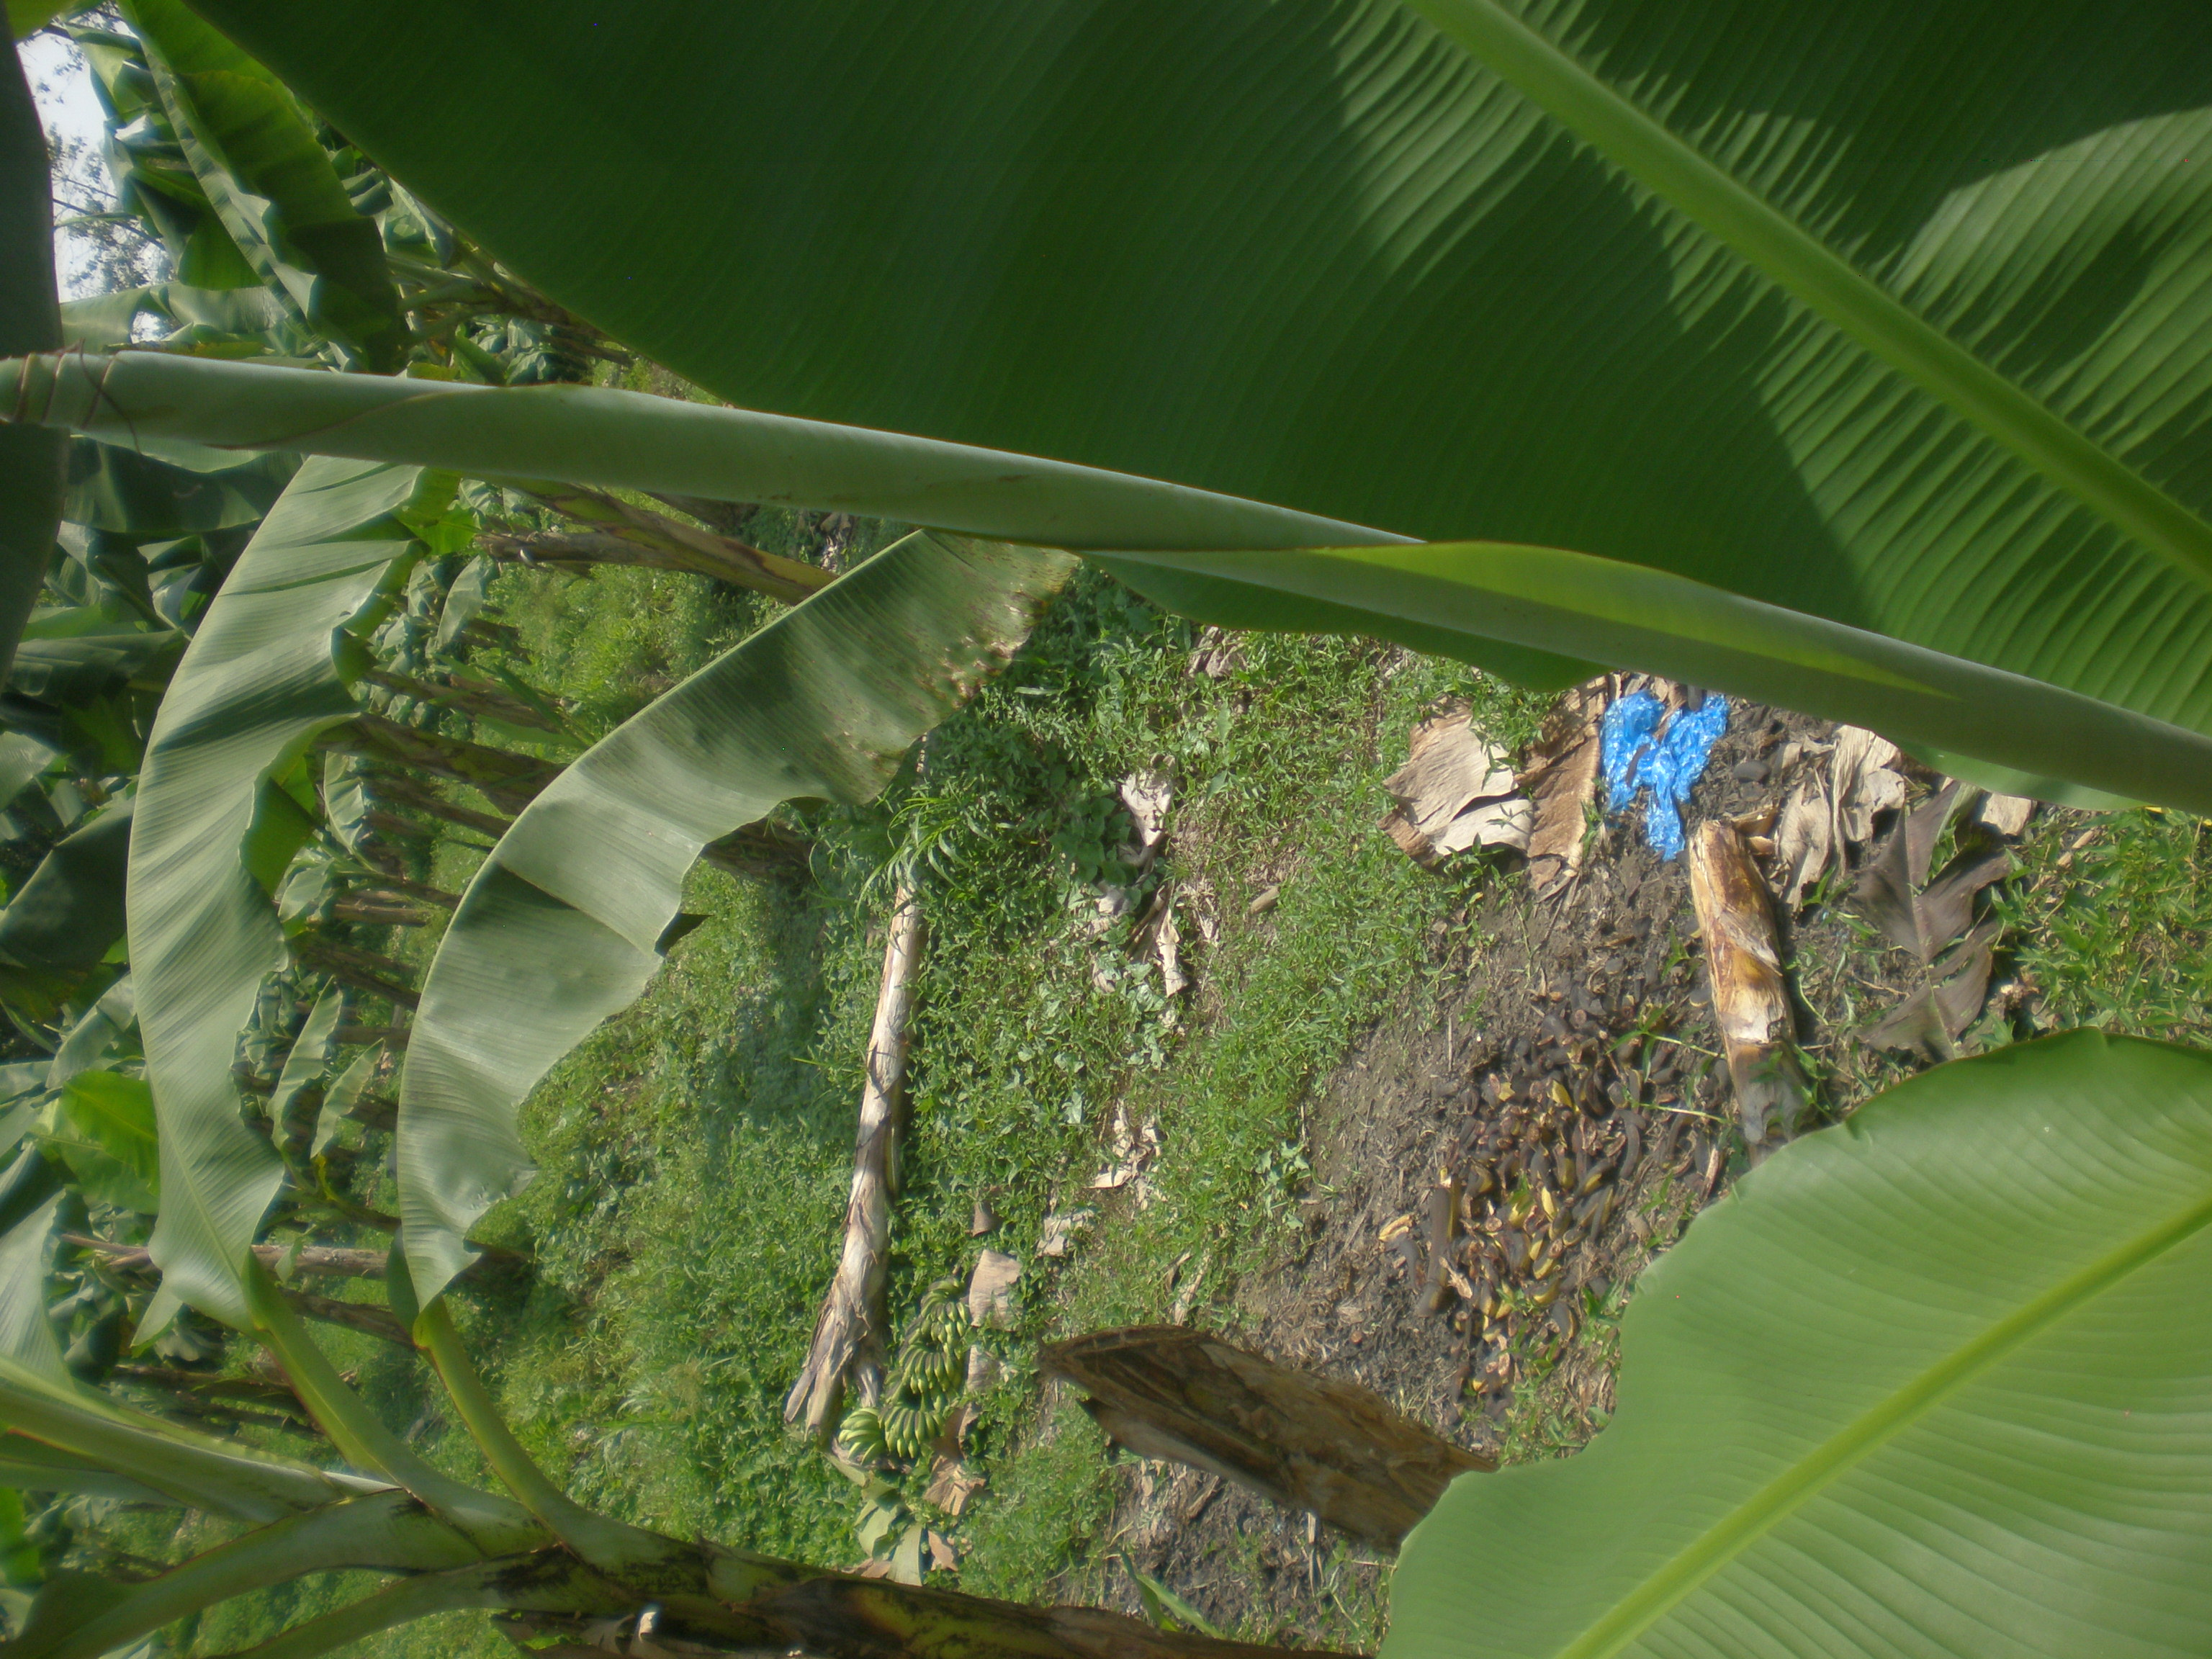candleleafs: (7, 349, 2212, 784)
